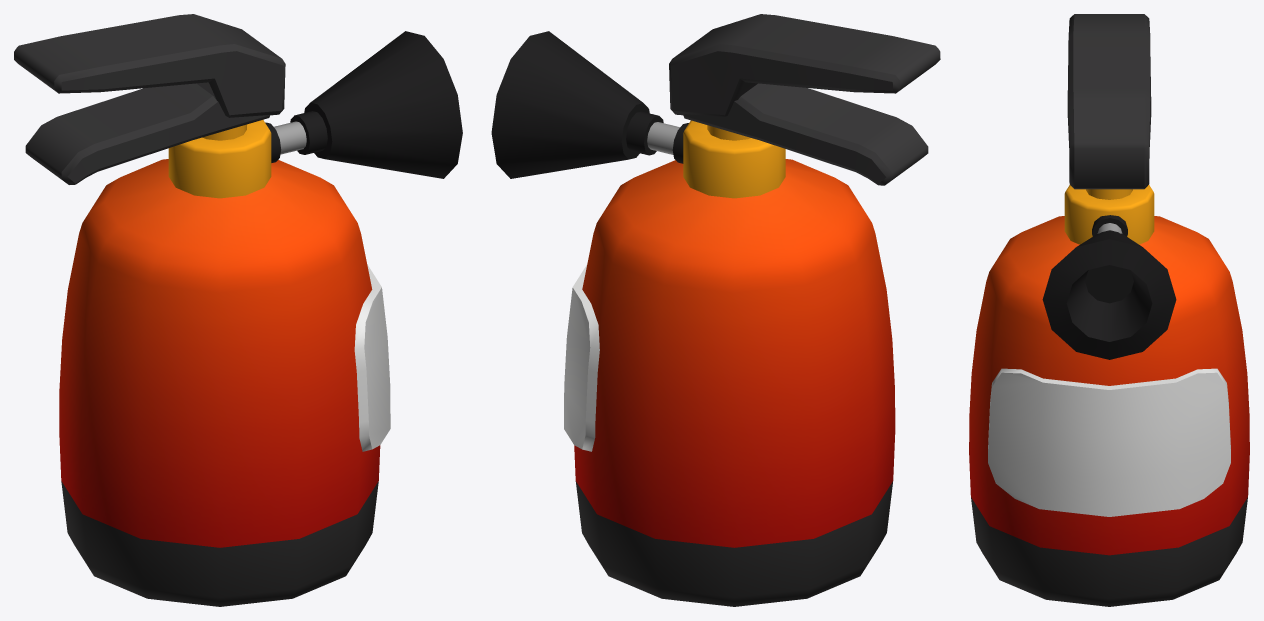
Rendered from Fire_Extinguisher_01.fbx.
3 views of the same model, side by side, from view 1: azimuth 30°, elevation 25°; view 2: azimuth 150°, elevation 25°; view 3: azimuth 270°, elevation 25° (orthographic). The views are drawn at different scales.
Parts seen in each view (by area): view 1: Fire_Extinguisher_01; view 2: Fire_Extinguisher_01; view 3: Fire_Extinguisher_01.
Boxes of the visible parts, <box> form: Fire_Extinguisher_01: <box>14,14,462,606</box>; Fire_Extinguisher_01: <box>491,14,940,606</box>; Fire_Extinguisher_01: <box>969,14,1249,606</box>.
Size of the model in its own units: 43.33 by 55.35 by 30.18.
